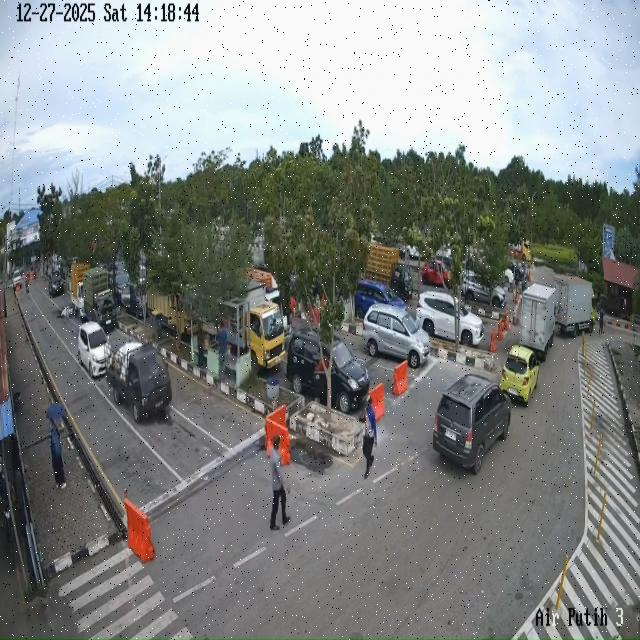Golongan IVA: (433, 373, 511, 475), (286, 327, 370, 414), (362, 304, 430, 369), (416, 291, 484, 347), (500, 345, 539, 406), (354, 280, 406, 319), (78, 321, 109, 378), (463, 271, 506, 308), (48, 270, 65, 298)
Golongan IVB: (106, 342, 172, 422)
Golongan VB: (520, 284, 556, 362), (554, 274, 596, 338), (82, 268, 116, 332)
